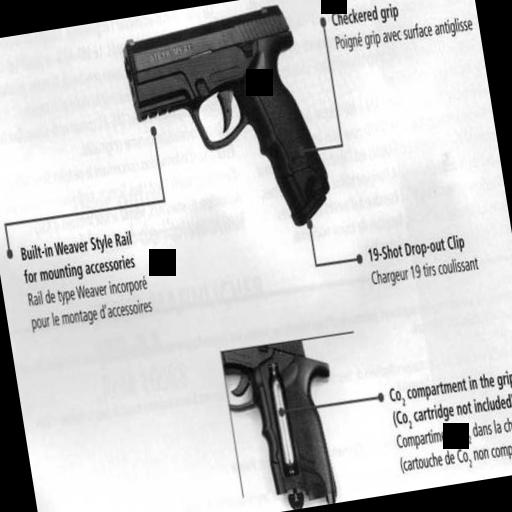Handgun: (116, 0, 334, 248)
